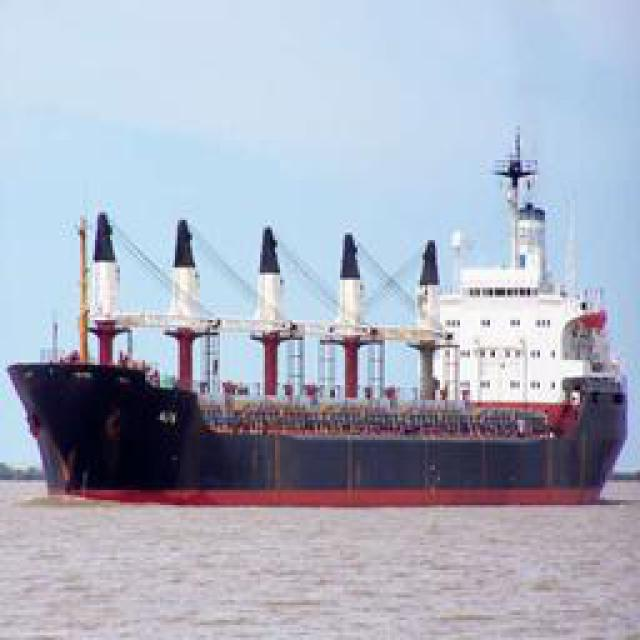Ship: (12, 124, 640, 510)
